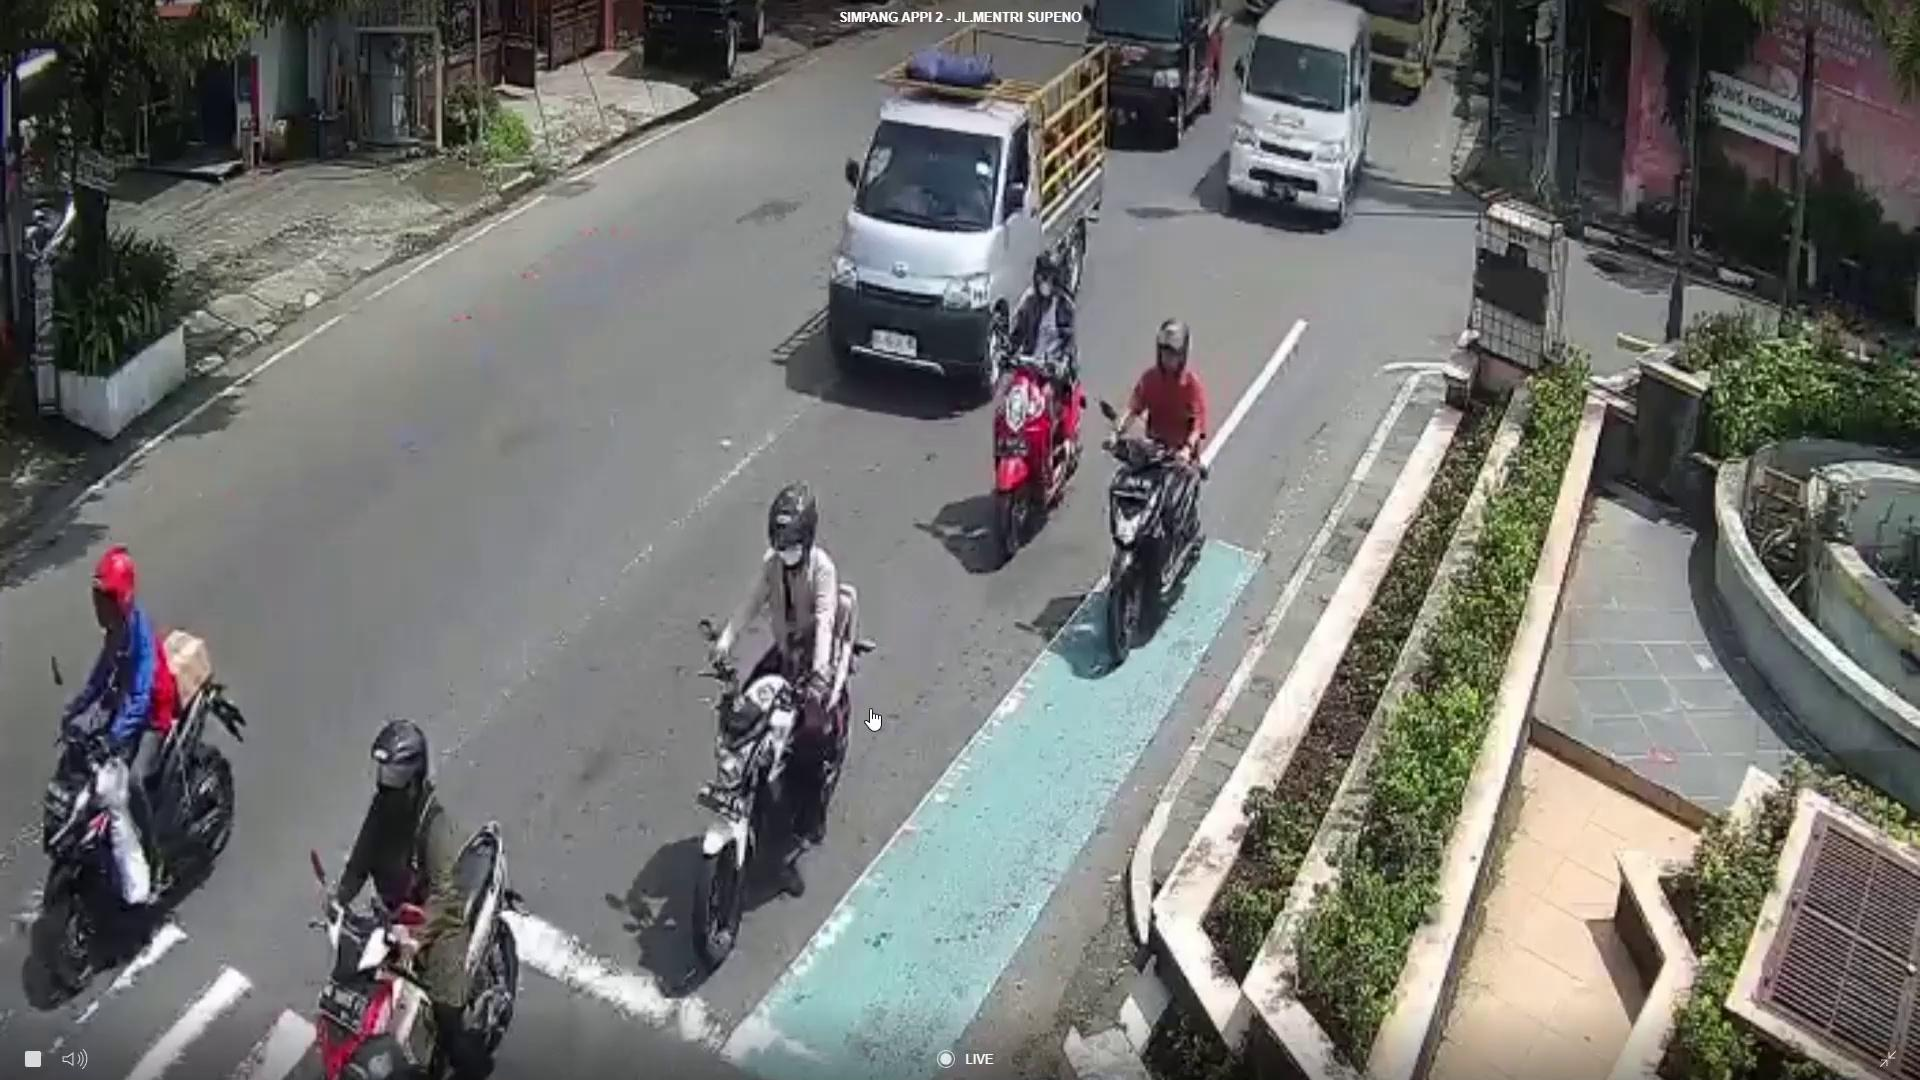car: (825, 87, 1102, 384), (1228, 0, 1370, 225), (1073, 1, 1224, 140)
motorbike: (691, 579, 864, 967), (36, 682, 237, 985), (309, 822, 509, 1080), (1105, 431, 1200, 657), (1000, 353, 1084, 551)
truck: (1342, 0, 1451, 102)
